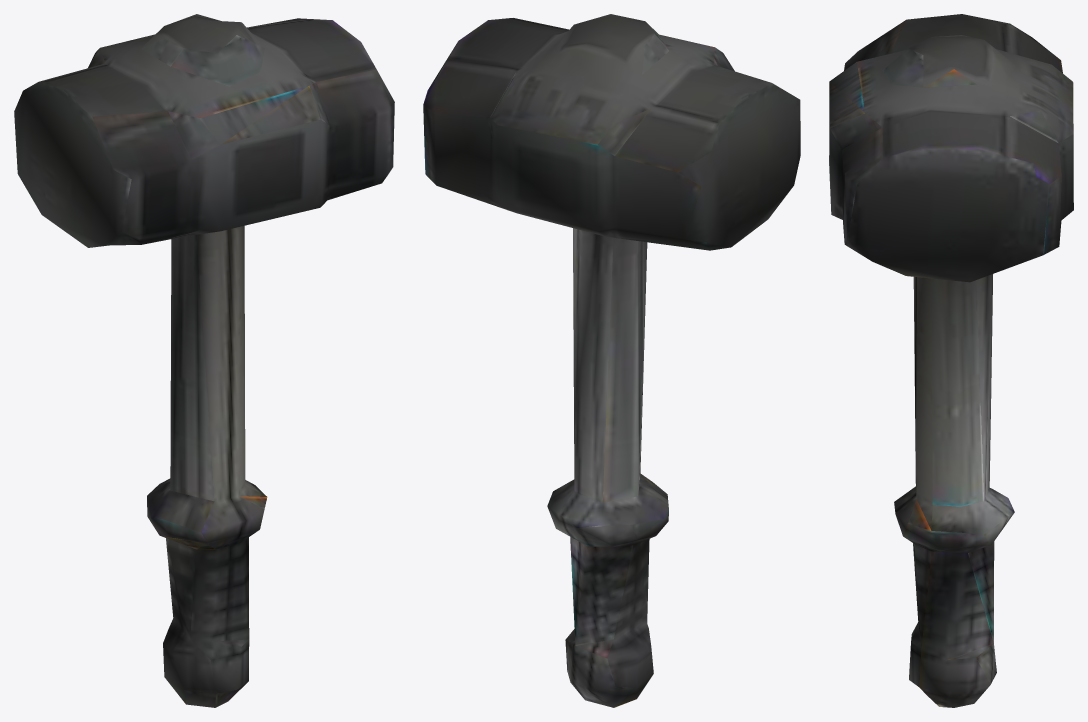
File: cutlass.glb
3 renders of one model, left to right at view 1: azimuth 30°, elevation 25°; view 2: azimuth 150°, elevation 25°; view 3: azimuth 270°, elevation 25°, orthographic. The views are drawn at different scales.
Visible parts, largest first — view 1: war_hammer; view 2: war_hammer; view 3: war_hammer.
Boxes of the visible parts, <box> form: war_hammer: <box>14,14,394,707</box>; war_hammer: <box>423,14,800,707</box>; war_hammer: <box>829,14,1073,707</box>.
Bounding box in the file's own units: 0.1503 × 0.3422 × 0.1159.
1 material, 1 textured.
